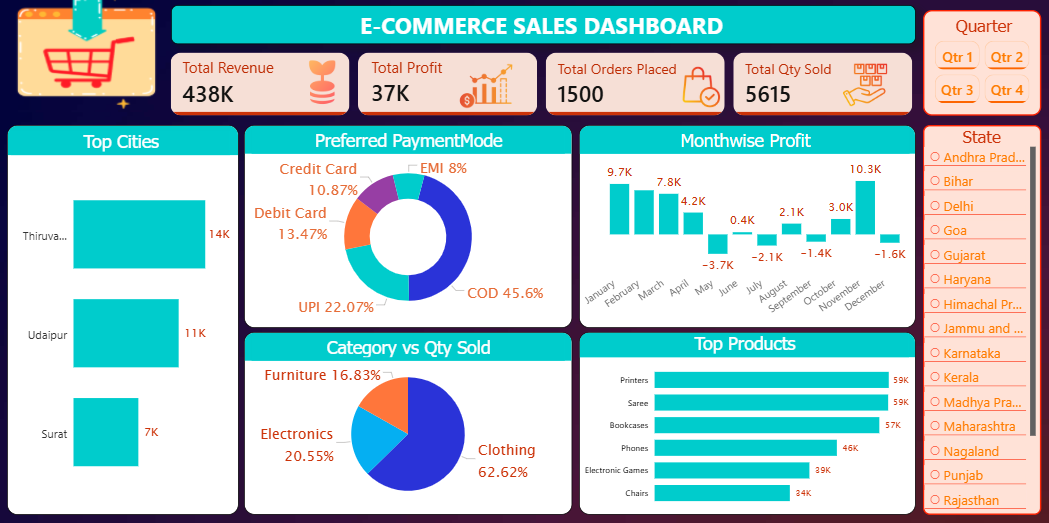

The page's visual inventory and layout, read from the dashboard file:
{"tool":"powerbi","page":{"name":"Page 1","canvas":[1500,754],"ordinal":0},"visuals":[{"type":"columnChart","title":"Monthwise Profit","fields":{"Category":["Orders.Order Date.Variation.Date Hierarchy.Month"],"Y":["Sum(Details.Profit)"]},"box":[827.1,181.4,481.4,290],"z":0},{"type":"barChart","title":"Top Products","fields":{"Category":["Details.Sub-Category"],"Y":["Sum(Details.Amount)"]},"box":[827.1,477.1,481.4,261.4],"z":1000},{"type":"donutChart","title":"Preferred PaymentMode","fields":{"Category":["Details.PaymentMode"],"Y":["CountNonNull(Details.Order ID)"]},"box":[348.6,181.4,468.6,290],"z":2000},{"type":"pieChart","title":"Category vs Qty Sold","fields":{"Category":["Details.Category"],"Y":["Sum(Details.Quantity)"]},"box":[348.6,477.1,468.6,261.4],"z":3000},{"type":"barChart","title":"Top Cities","fields":{"Category":["Orders.City"],"Y":["Sum(Details.Amount)"]},"box":[10,181.4,331.4,557.1],"z":4000},{"type":"textbox","box":[244.3,10,1064.3,55.7],"z":5000},{"type":"listSlicer","title":"State","fields":{"Values":["Orders.State"]},"box":[1318.6,181.4,168.6,557.1],"z":6000},{"type":"cardVisual","fields":{"Data":["Sum(Details.Amount)","Sum(Details.Profit)","CountNonNull(Details.Order ID)","Sum(Details.Quantity)"]},"box":[231.4,65.7,1087.1,114.3],"z":7000},{"type":"advancedSlicerVisual","fields":{"Values":["Orders.Order Date.Variation.Date Hierarchy.Quarter"]},"box":[1318.6,17.1,168.6,151.4],"z":8000},{"type":"image","box":[0,0,244.3,162.9],"z":9000}]}

Visuals, with their boxes in screenshot pixels (x1, y1, x2, y2), scaled from the page's 1500x754 canvas onto the 1049x523 screenshot:
"Monthwise Profit" columnChart: [left=578, top=126, right=915, bottom=327]
"Top Products" barChart: [left=578, top=331, right=915, bottom=512]
"Preferred PaymentMode" donutChart: [left=244, top=126, right=571, bottom=327]
"Category vs Qty Sold" pieChart: [left=244, top=331, right=571, bottom=512]
"Top Cities" barChart: [left=7, top=126, right=239, bottom=512]
textbox: [left=171, top=7, right=915, bottom=46]
"State" listSlicer: [left=922, top=126, right=1040, bottom=512]
cardVisual - Sum(Details.Amount) x Sum(Details.Profit): [left=162, top=46, right=922, bottom=125]
advancedSlicerVisual - Orders.Order Date.Variation.Date Hierarchy.Quarter: [left=922, top=12, right=1040, bottom=117]
image: [left=0, top=0, right=171, bottom=113]
